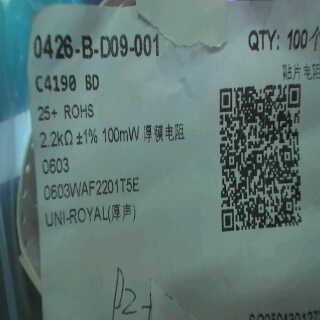2.2kR: (37, 125, 76, 151)
